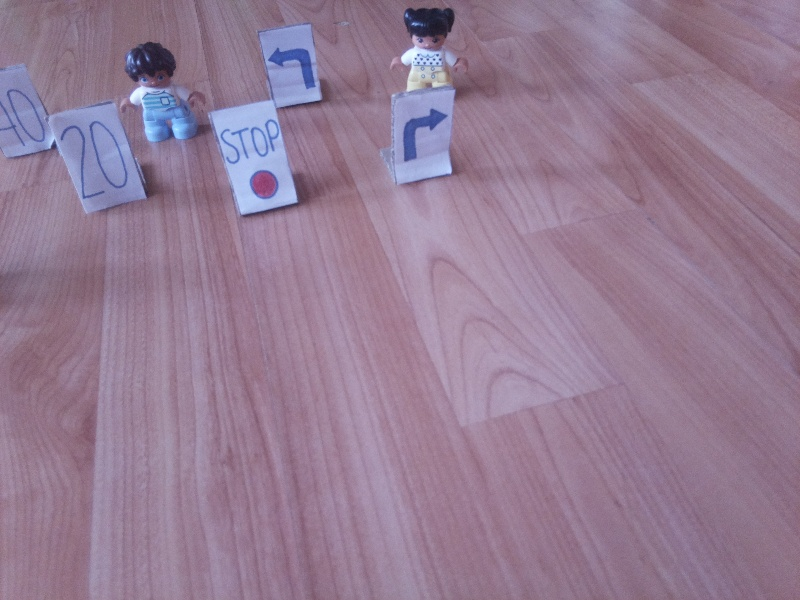20: (60, 118, 132, 198)
40: (2, 82, 47, 148)
person: (119, 40, 207, 140), (384, 7, 476, 93)
stop: (219, 120, 291, 198)
turn left: (267, 43, 322, 96)
turn right: (401, 107, 448, 168)
